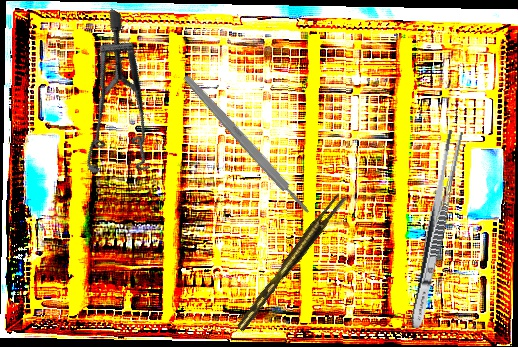Dressing Forceps: (406, 129, 465, 330)
Scalpel Handle: (181, 72, 312, 217)
Speculum: (32, 8, 211, 197)
Tissue Forceps: (229, 191, 352, 332)
